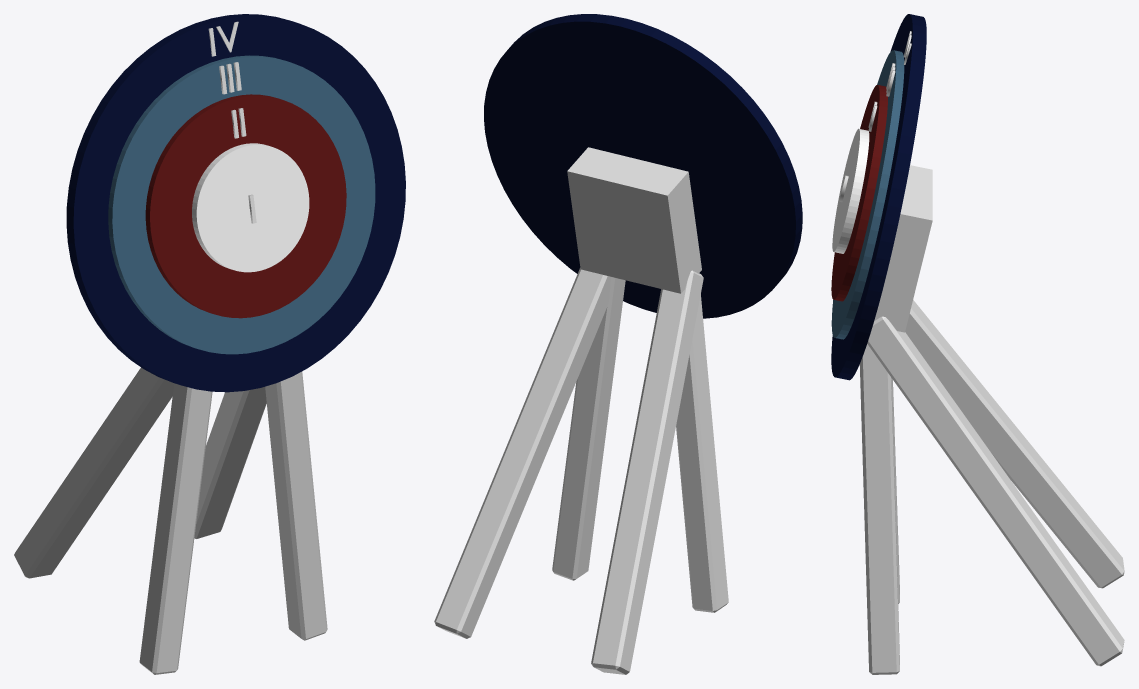
The picture shows the model from 3 angles, left to right: view 1: azimuth 30°, elevation 25°; view 2: azimuth 150°, elevation 25°; view 3: azimuth 270°, elevation 25°; orthographic projection. The views are drawn at different scales.
Parts seen in each view (by area): view 1: Circle.003, Circle.002, Circle.001, Circle, Cube.001, Cube, Cube.004, Cube.003; view 2: Circle.003, Cube.004, Cube.003, Cube.002, Cube, Cube.001; view 3: Cube.003, Cube.004, Cube, Circle.003, Cube.002, Circle.002, Circle.001, Circle, Cube.001.
Part boxes in pixels (x1=…): Circle.003: x1=66, y1=14, x2=405, y2=392; Circle.002: x1=108, y1=55, x2=375, y2=354; Circle.001: x1=145, y1=94, x2=346, y2=318; Circle: x1=192, y1=143, x2=309, y2=272; Cube.001: x1=139, y1=383, x2=212, y2=674; Cube: x1=265, y1=371, x2=327, y2=640; Cube.004: x1=14, y1=367, x2=174, y2=578; Cube.003: x1=194, y1=387, x2=266, y2=538; Circle.003: x1=484, y1=14, x2=802, y2=318; Cube.004: x1=591, y1=270, x2=703, y2=674; Cube.003: x1=434, y1=268, x2=611, y2=638; Cube.002: x1=567, y1=147, x2=701, y2=293; Cube: x1=552, y1=277, x2=625, y2=580; Cube.001: x1=676, y1=294, x2=728, y2=612; Cube.003: x1=867, y1=316, x2=1124, y2=666; Cube.004: x1=905, y1=300, x2=1124, y2=588; Cube: x1=859, y1=344, x2=899, y2=674; Circle.003: x1=831, y1=14, x2=926, y2=380; Cube.002: x1=874, y1=165, x2=932, y2=332; Circle.002: x1=831, y1=50, x2=904, y2=339; Circle.001: x1=831, y1=85, x2=887, y2=301; Circle: x1=832, y1=128, x2=869, y2=253; Cube.001: x1=891, y1=378, x2=899, y2=603.
Size of the model in its own units: 586 by 1054 by 463.
